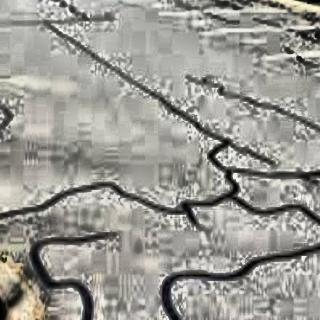crack: (44, 18, 272, 165), (1, 180, 320, 233), (161, 243, 320, 320), (187, 76, 320, 134), (31, 231, 115, 319), (207, 142, 238, 192), (232, 167, 320, 181), (0, 103, 12, 128)
